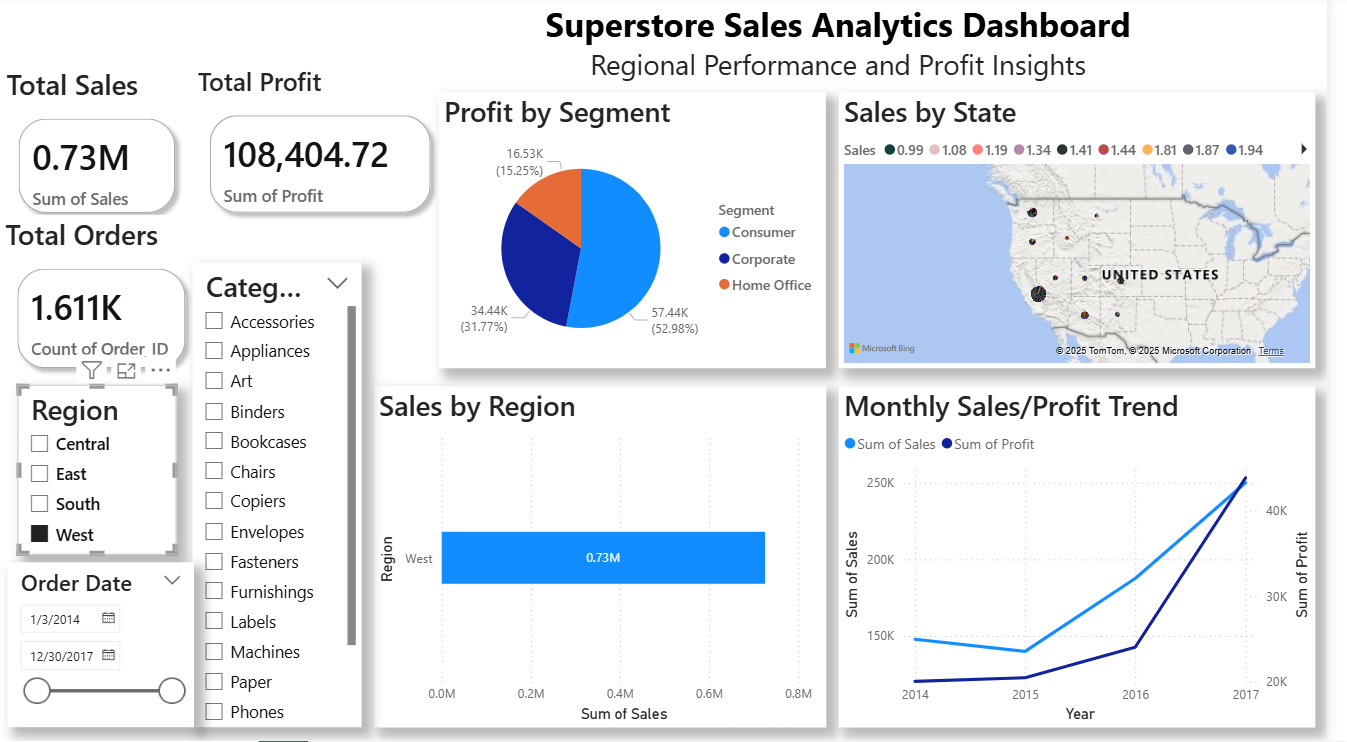

The page's visual inventory and layout, read from the dashboard file:
{"tool":"powerbi","page":{"name":"Superstore Sales Analytics Dashboard ","canvas":[1280,720],"ordinal":0},"visuals":[{"type":"cardVisual","title":"Total Sales","fields":{"Data":["Sum(US Superstore data.Sales)"]},"box":[1.2,66.4,185.8,160.5],"z":0},{"type":"cardVisual","title":"Total Profit","fields":{"Data":["Sum(US Superstore data.Profit)"]},"box":[185.8,66.4,247.3,160.5],"z":1000},{"type":"cardVisual","title":"Total Orders","fields":{"Data":["Count(US Superstore data.Order_ID)"]},"box":[0,211.1,196.6,165.3],"z":3000},{"type":"barChart","title":"Sales by Region","fields":{"Y":["Sum(US Superstore data.Sales)"],"Category":["US Superstore data.Region"]},"box":[360.7,376.4,436.7,329.4],"z":4000},{"type":"pieChart","title":"Profit by Segment","fields":{"Category":["US Superstore data.Segment"],"Y":["Sum(US Superstore data.Profit)"]},"box":[423.5,92.9,374,266.6],"z":5000},{"type":"lineChart","title":"Monthly Sales/Profit Trend","fields":{"Category":["US Superstore data.Order_Date.Variation.Date Hierarchy.Year","US Superstore data.Order_Date.Variation.Date Hierarchy.Month"],"Y":["Sum(US Superstore data.Sales)"],"Y2":["Sum(US Superstore data.Profit)"]},"box":[809.5,376.4,459.7,329.4],"z":6000},{"type":"map","title":"Sales by State","fields":{"Category":["US Superstore data.State"],"Size":["Sum(US Superstore data.Sales)"],"Series":["US Superstore data.Sales"]},"box":[809.5,92.9,459.7,266.6],"z":7000},{"type":"slicer","fields":{"Values":["US Superstore data.Region"]},"box":[16.9,375.2,153.2,164.1],"z":8000},{"type":"slicer","fields":{"Values":["US Superstore data.Sub_Category"]},"box":[185.8,257,162.9,448.8],"z":9000},{"type":"slicer","fields":{"Values":["US Superstore data.Order_Date"]},"box":[7.2,546.5,179.8,159.3],"z":10000},{"type":"textbox","box":[515.2,0,587.5,92.9],"z":12000}]}

Visuals, with their boxes in screenshot pixels (x1, y1, x2, y2), scaled from the page's 1280x720 canvas onto the 1347x742 screenshot:
"Total Sales" cardVisual: [1, 68, 197, 234]
"Total Profit" cardVisual: [196, 68, 456, 234]
"Total Orders" cardVisual: [0, 218, 207, 388]
"Sales by Region" barChart: [380, 388, 839, 727]
"Profit by Segment" pieChart: [446, 96, 839, 370]
"Monthly Sales/Profit Trend" lineChart: [852, 388, 1336, 727]
"Sales by State" map: [852, 96, 1336, 370]
slicer - US Superstore data.Region: [18, 387, 179, 556]
slicer - US Superstore data.Sub_Category: [196, 265, 367, 727]
slicer - US Superstore data.Order_Date: [8, 563, 197, 727]
textbox: [542, 0, 1160, 96]
